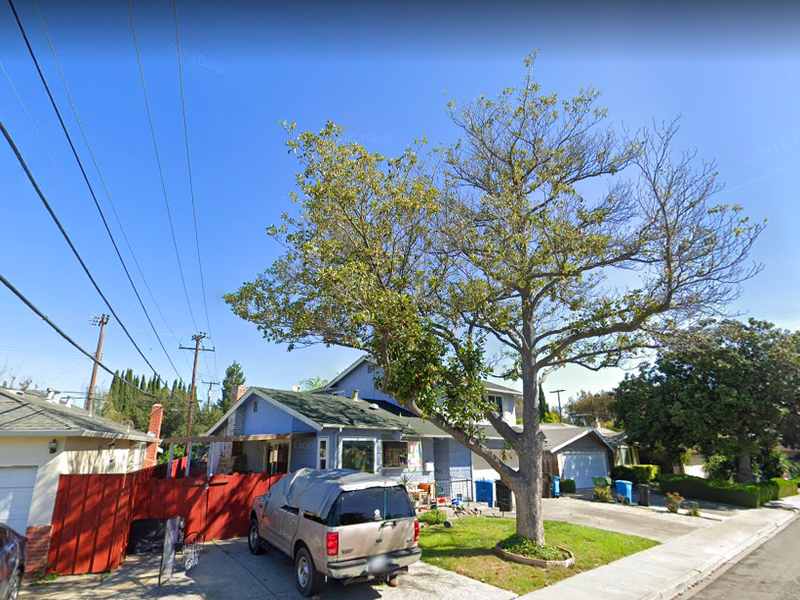tree: (221, 45, 770, 558)
